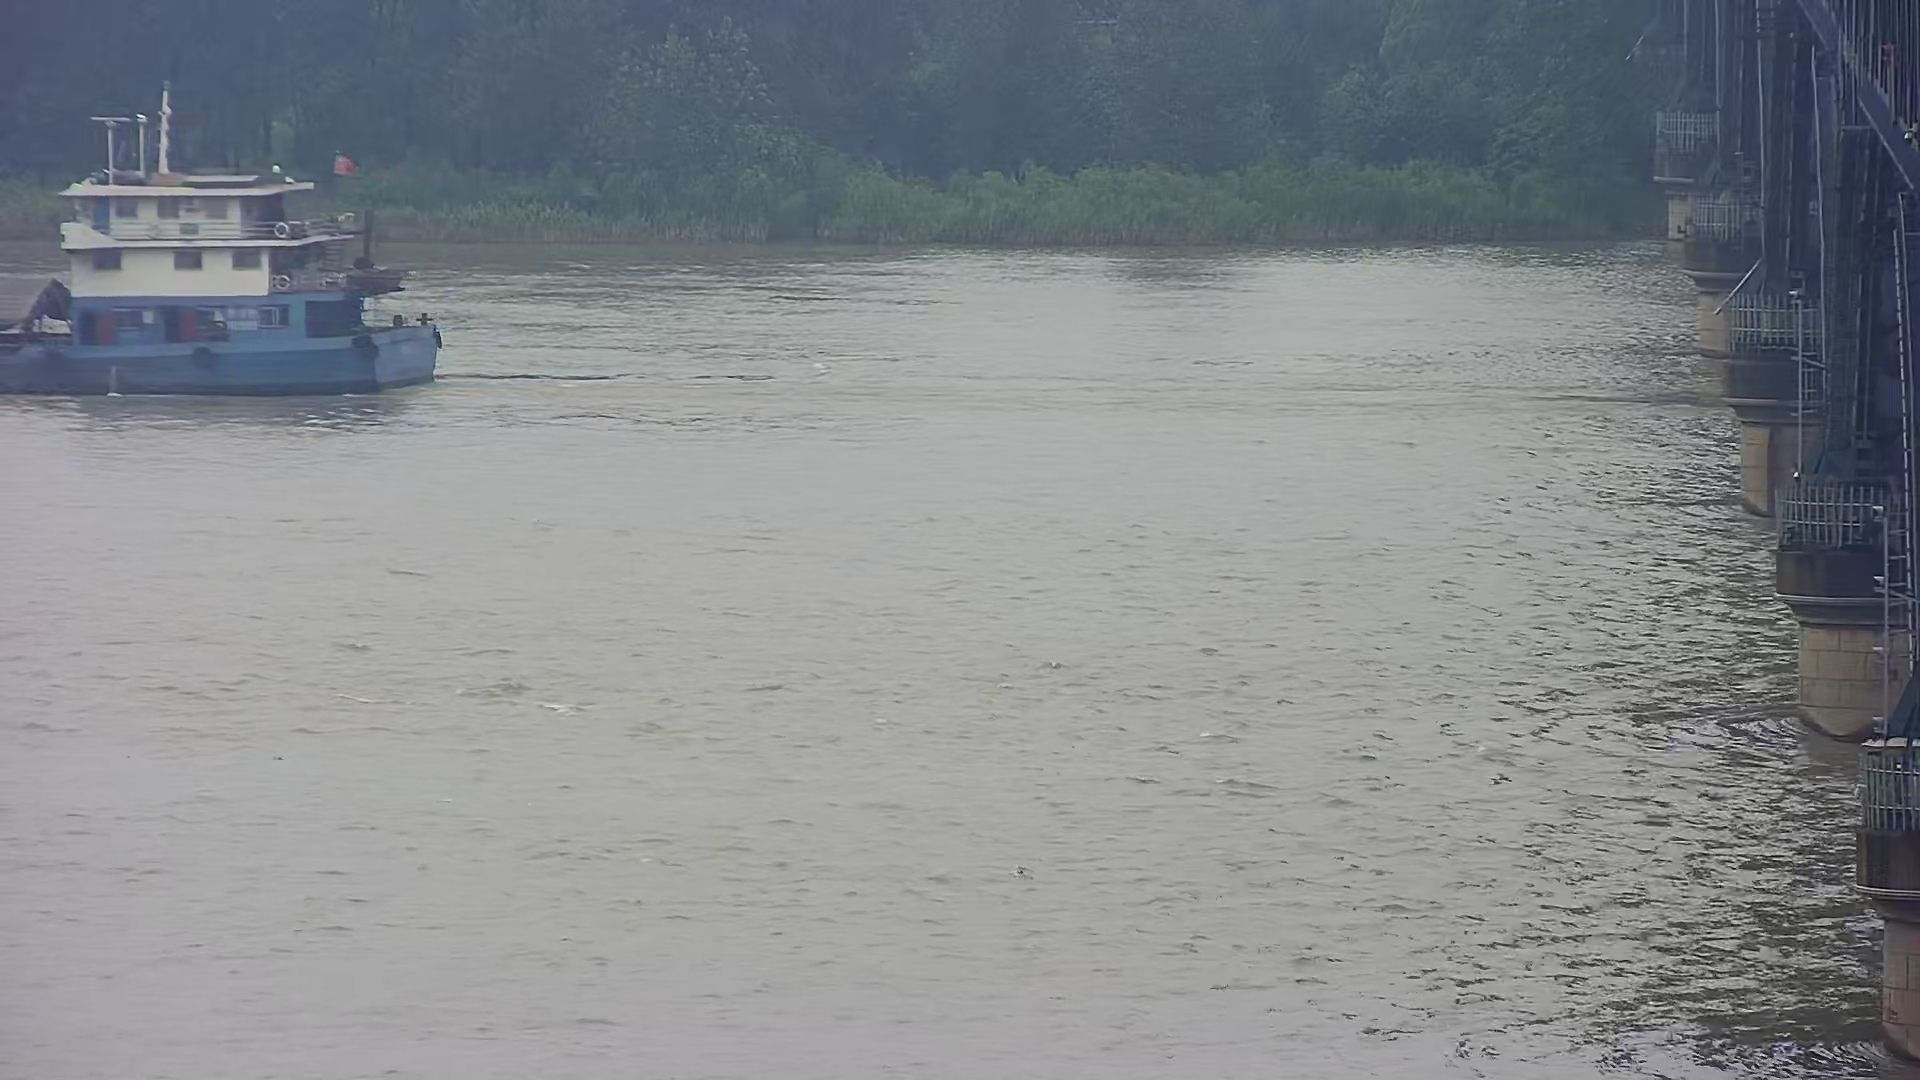bridge: (1615, 1, 1920, 1080)
ship: (1, 58, 465, 418)
